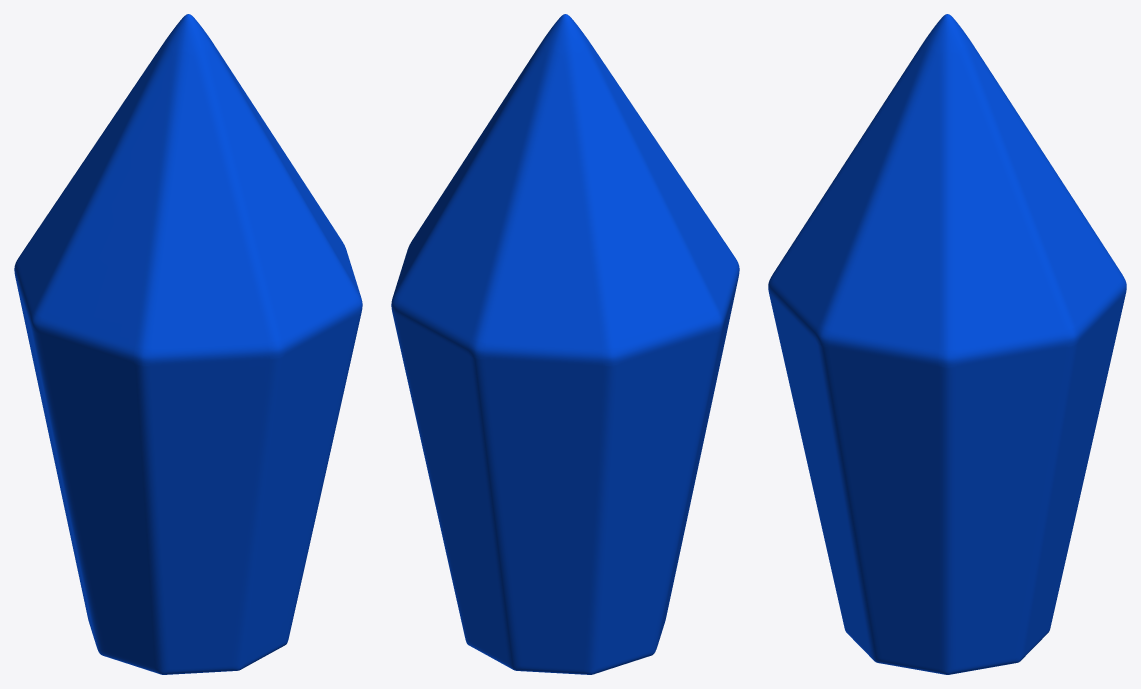
File: blue_Crystal.fbx
3 views of the same model, side by side, from view 1: azimuth 30°, elevation 25°; view 2: azimuth 150°, elevation 25°; view 3: azimuth 270°, elevation 25° (orthographic).
Visible parts, largest first — view 1: outside; view 2: outside; view 3: outside.
Boxes of the visible parts, x1,y1,x2,y2 form: outside: (14, 14, 362, 674); outside: (391, 14, 739, 674); outside: (768, 14, 1126, 674).
Size of the model in its own units: 348 by 664 by 348.
